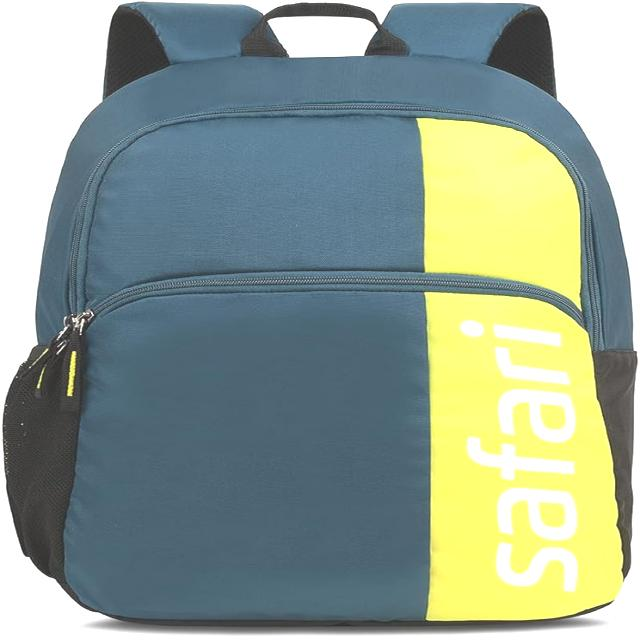backpack: (3, 2, 637, 628)
